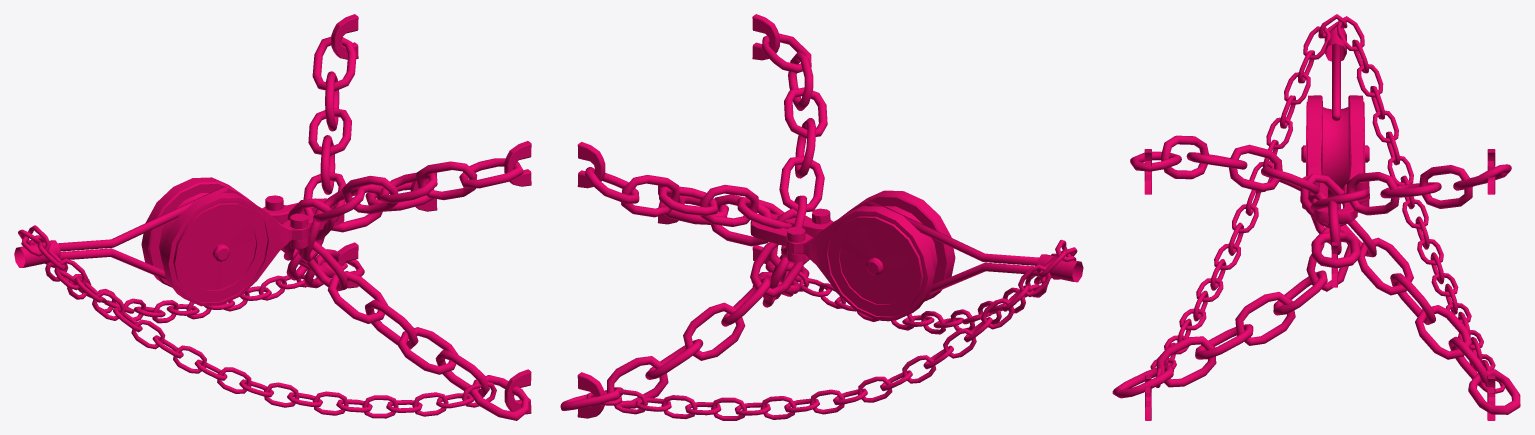
File: Return Rig.fbx
The picture shows the model from 3 angles, left to right: view 1: azimuth 30°, elevation 25°; view 2: azimuth 150°, elevation 25°; view 3: azimuth 270°, elevation 25°; orthographic projection.
Parts seen in each view (by area): view 1: Snatchblock_high.009; view 2: Snatchblock_high.009; view 3: Snatchblock_high.009.
Part boxes in pixels (x1,y1,x2,y2): Snatchblock_high.009: (14, 14, 531, 420); Snatchblock_high.009: (560, 14, 1083, 420); Snatchblock_high.009: (1112, 14, 1520, 420).
Bounding box in the file's own units: 125 × 76.11 × 105.
